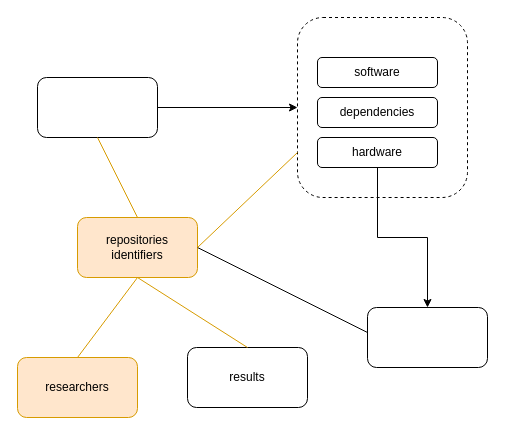
Image size: 505x435. Some labels were removed from this diagram. Here are the shapes that lost their labels. From the top down, the box of each, then its label:
(36, 76, 158, 138): data in
(366, 306, 488, 368): data out
